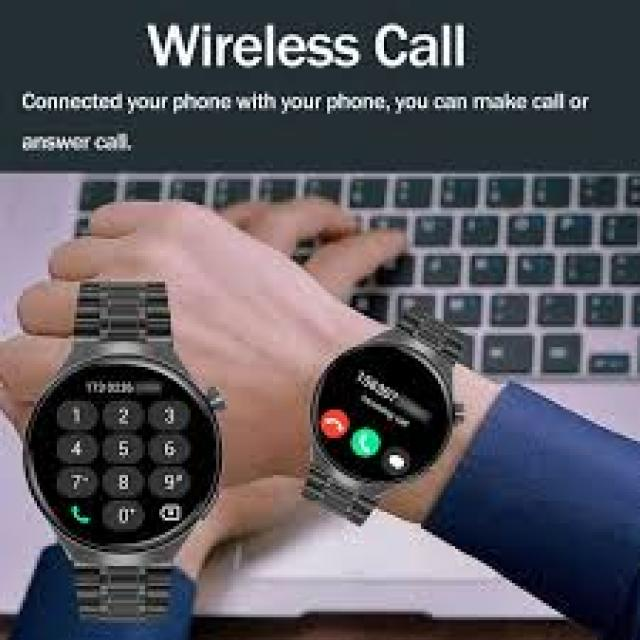watch: (302, 309, 475, 523)
